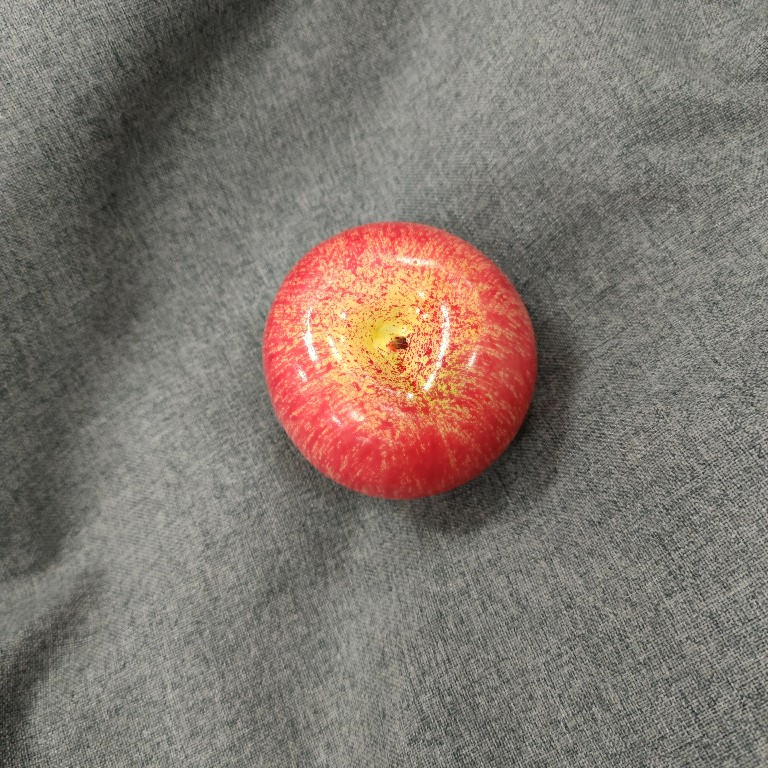fruit_apple: (255, 216, 542, 505)
